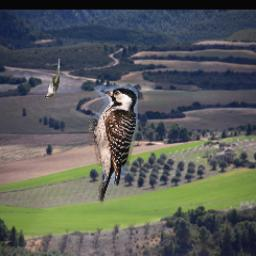Cuckoo: (43, 55, 60, 98)
Woodpecker: (90, 84, 139, 204)
